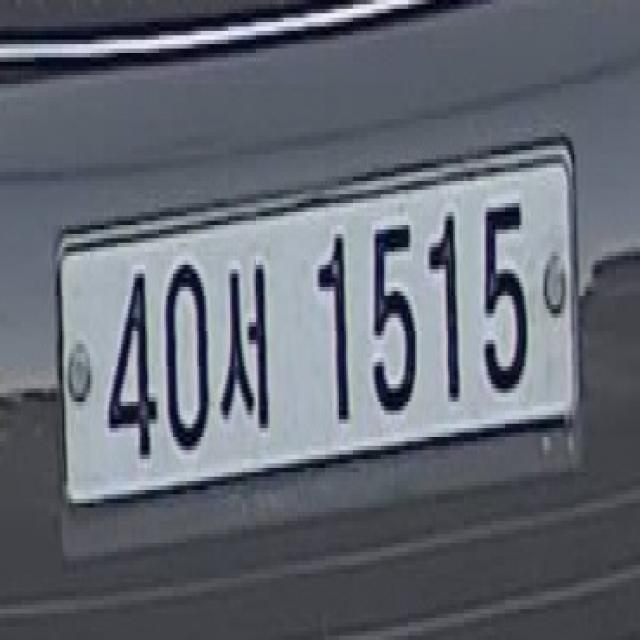0: (161, 252, 213, 454)
1: (315, 230, 356, 432), (429, 212, 464, 406)
4: (102, 260, 156, 454)
5: (479, 185, 529, 398), (368, 212, 417, 415)
license_plate: (52, 137, 576, 508)
seo: (222, 256, 272, 433)
